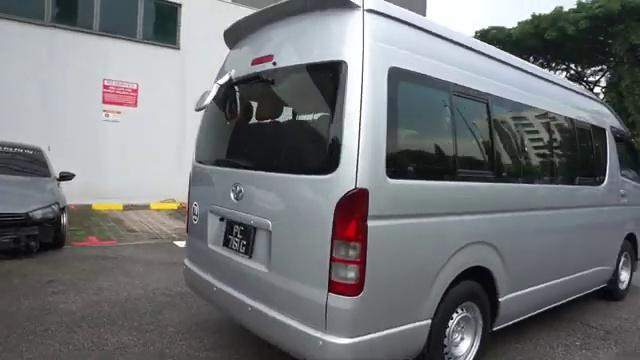van: (183, 0, 636, 360)
